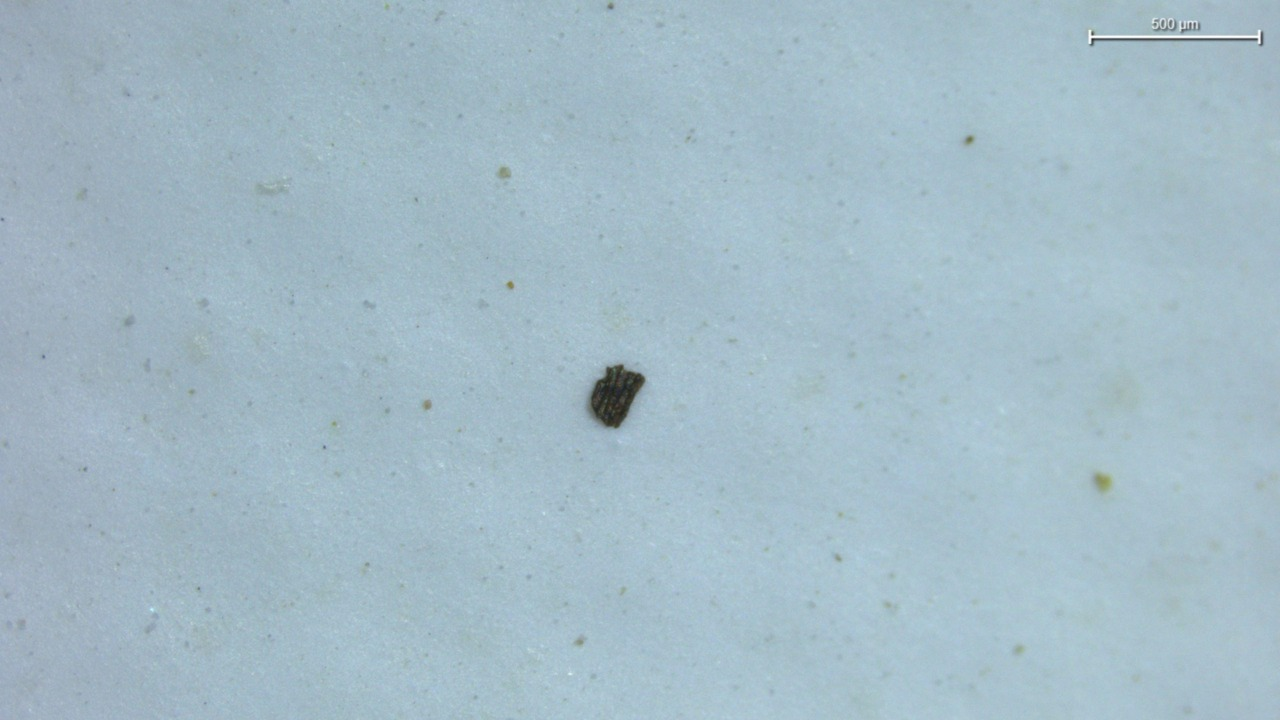microplastic_fragment: (590, 365, 645, 427)
